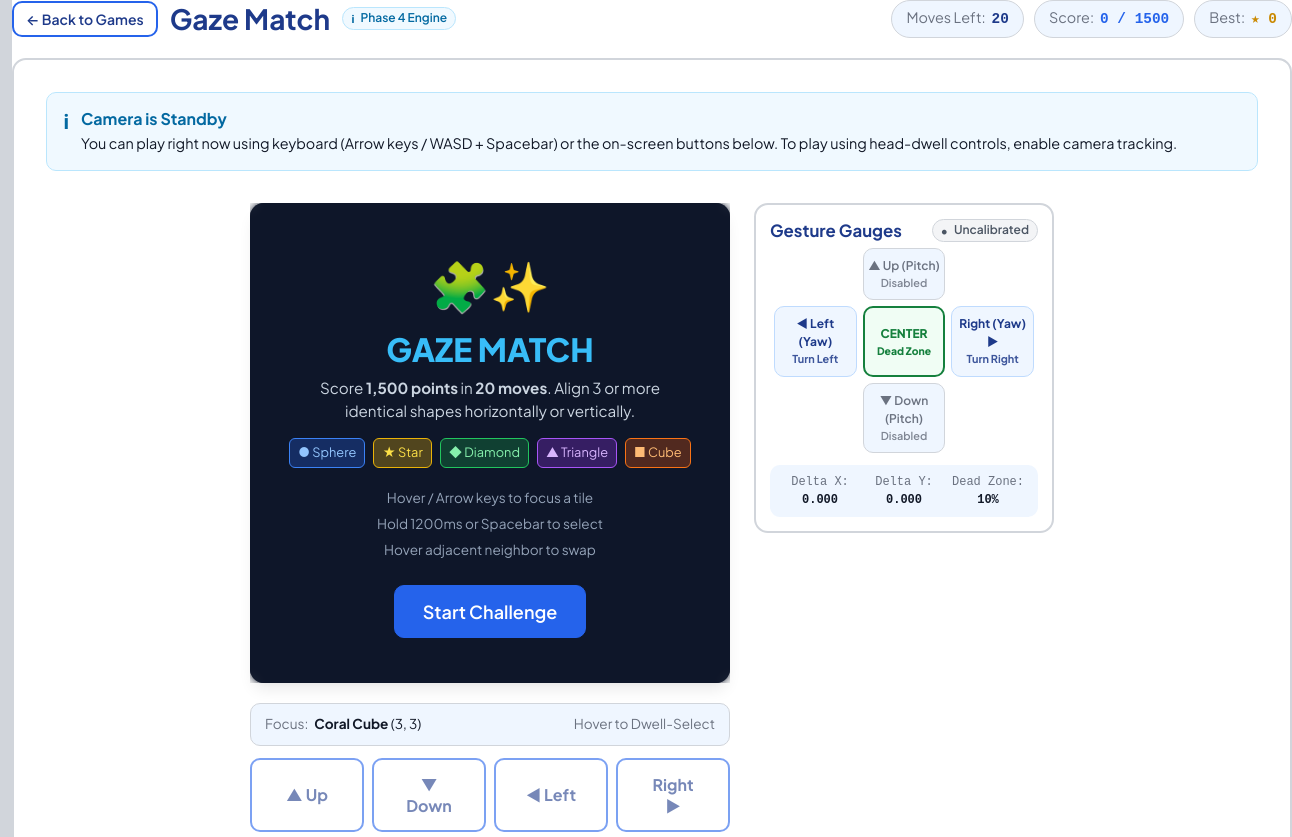
Test: GazeMatch Component & UX Integration › 5. Manual Pause and Resume toggle freezes and unfreezes gameplay
Click the button "Start Challenge".
click(490, 611)  # box x1=394 y1=585 x2=586 y2=638
(page scrolled)
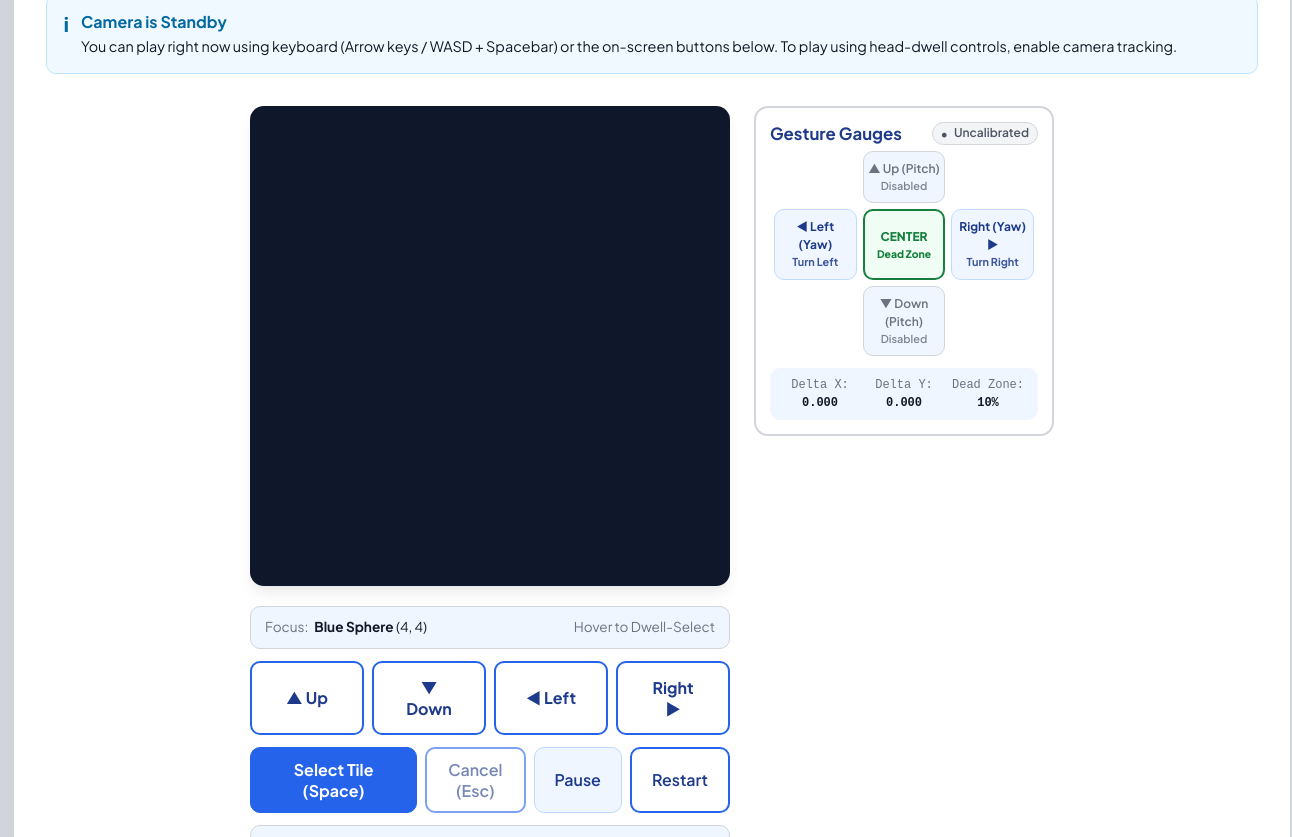
Note: Click Pause
Click the button "Pause".
click(578, 780)  # box x1=534 y1=747 x2=622 y2=813
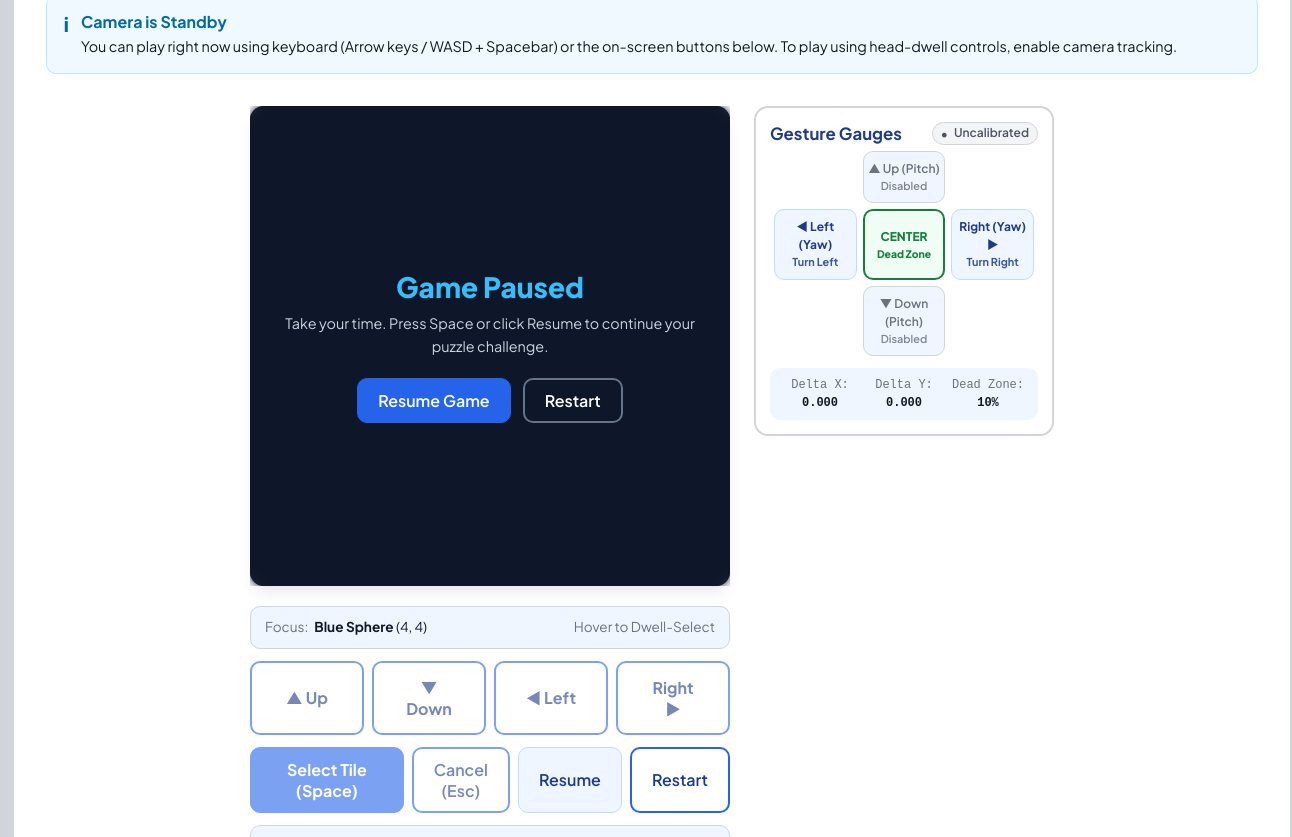
Expected: the heading "Game Paused" is shown, x1=396 y1=269 x2=584 y2=304
Note: Click Resume Game
Click the button "Resume Game".
click(434, 401)  # box x1=357 y1=378 x2=511 y2=423
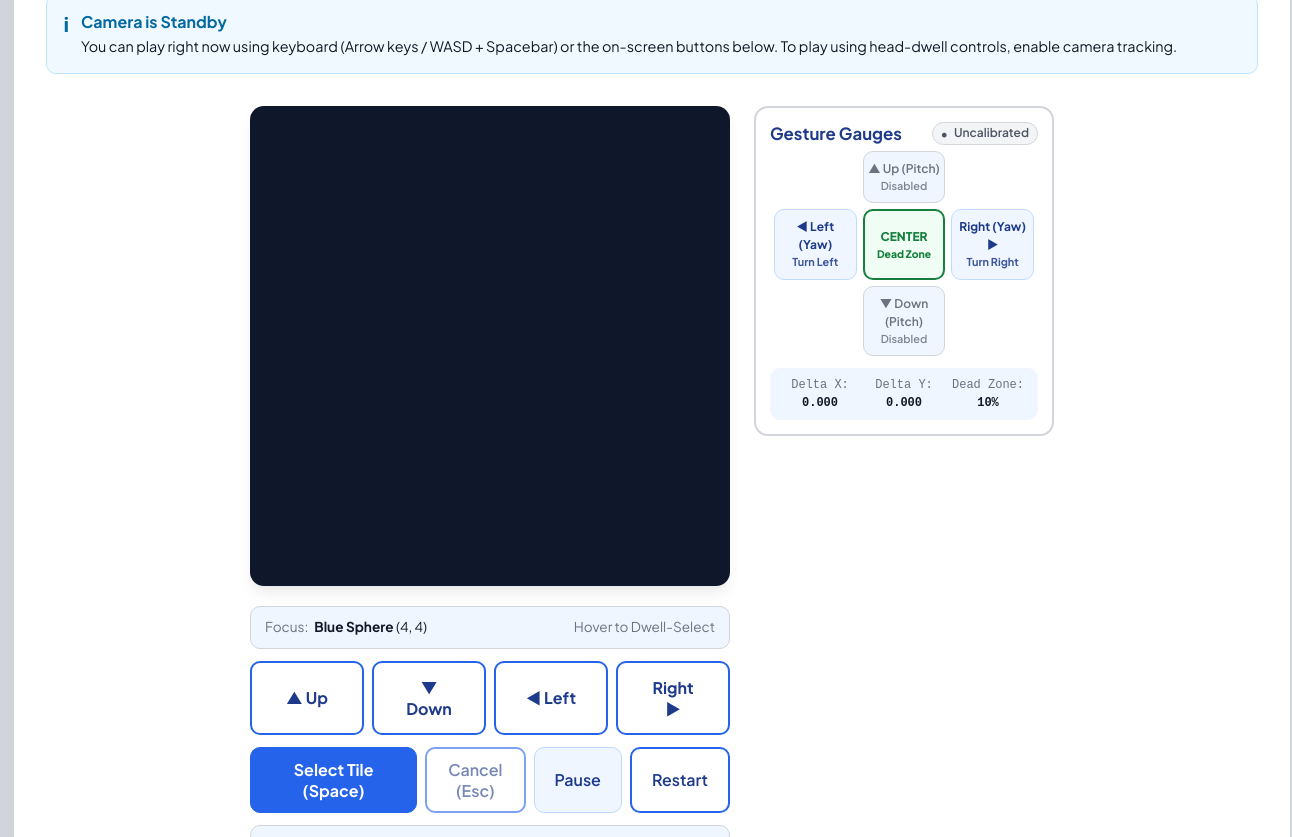
Expected: the heading "Game Paused" is gone
